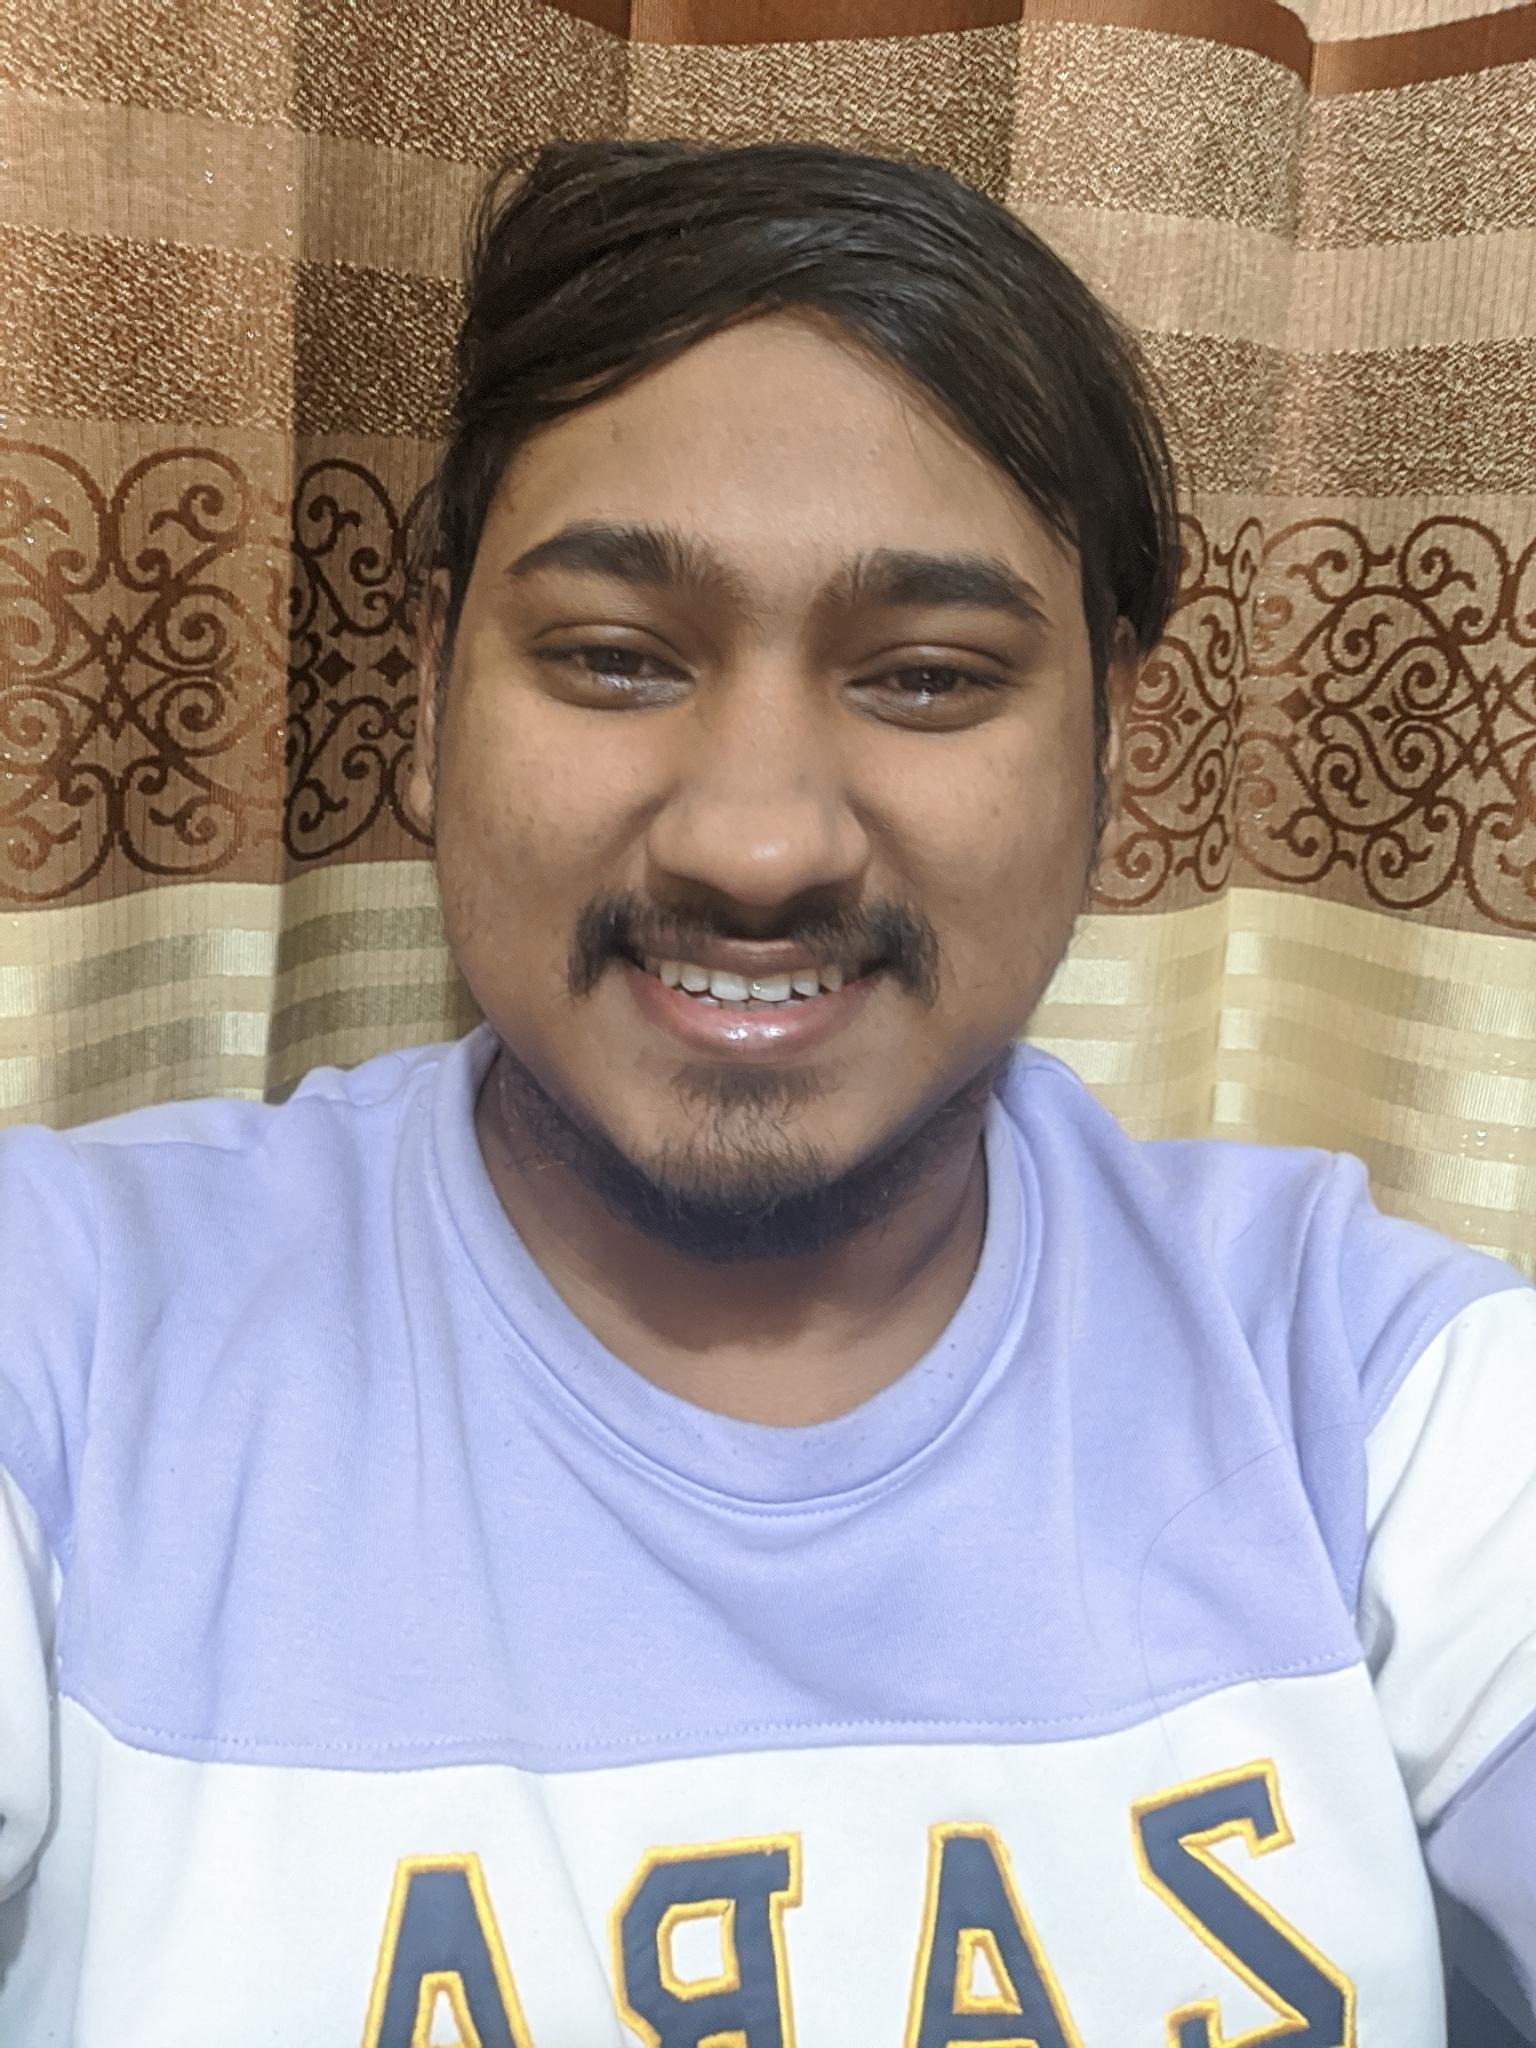Happy: (424, 427, 1117, 1190)
